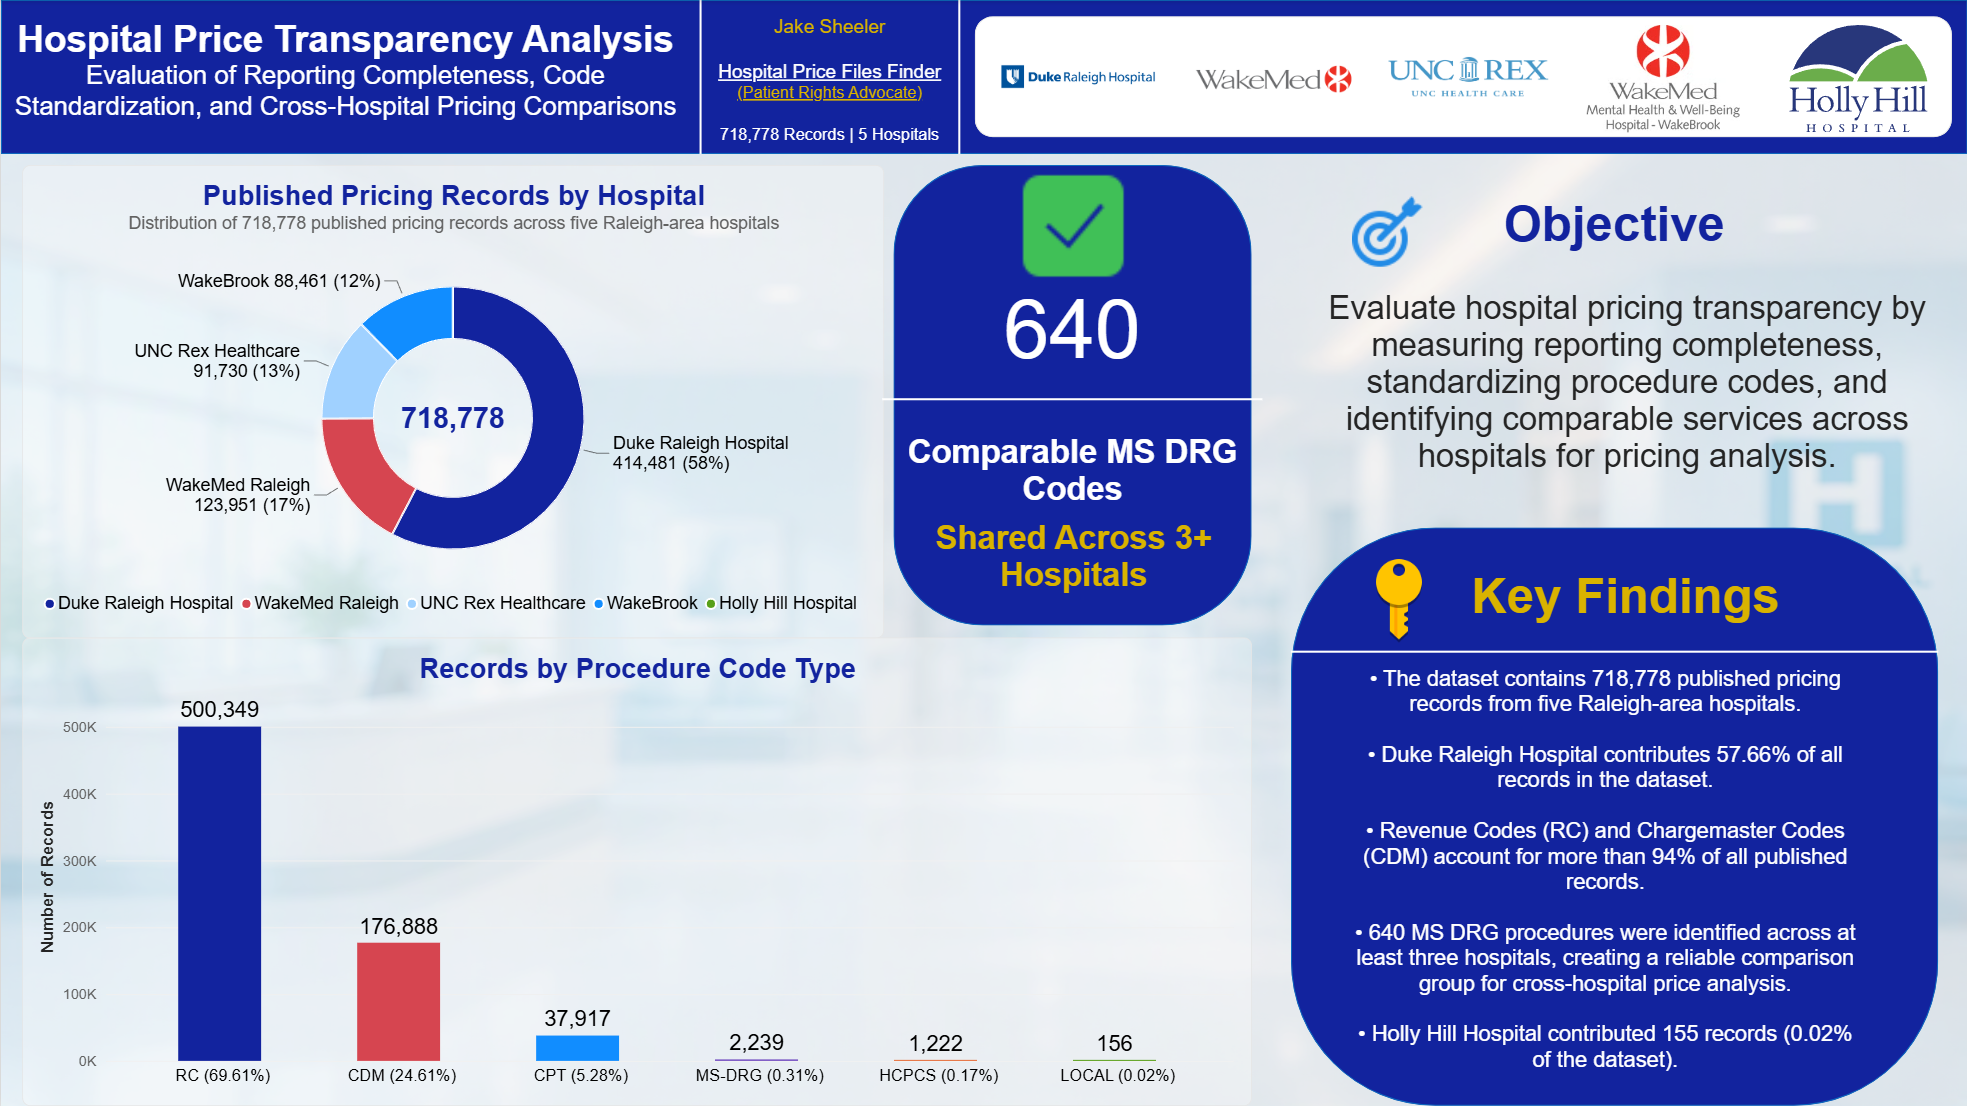

The dashboard page shown, as its layout file describes it:
{"tool":"powerbi","page":{"name":"Executive Overview","canvas":[1920,1080],"ordinal":0},"visuals":[{"type":"image","box":[0,149.9,1920.3,930.5],"z":0},{"type":"shape","box":[871.2,160.8,349.7,449.6],"z":1000},{"type":"shape","title":"Blue Banner","box":[0,0,1920.3,150.3],"z":2000},{"type":"donutChart","title":"Published Pricing Records by Hospital","fields":{"Category":["hospital_prices.Hospital Display Name"],"Y":["CountNonNull(hospital_prices.hospital_name)"]},"box":[20.3,160.8,841.5,462.1],"z":3000},{"type":"shape","box":[950.3,15.8,954.2,118.1],"z":4000},{"type":"textbox","title":"Hospital Price Transparency Analysis","box":[3.9,18.4,665.5,141.8],"z":5000},{"type":"shape","box":[669,0,28.4,150.3],"z":6000},{"type":"textbox","box":[683.8,15.6,251.4,184.2],"z":7000},{"type":"shape","box":[921.4,0,28.4,150.3],"z":8000},{"type":"image","box":[973.9,22.3,156,105],"z":9000},{"type":"image","box":[1164.2,24.9,156,105],"z":10000},{"type":"image","box":[1354.6,24.9,156,105],"z":11000},{"type":"image","box":[1544.9,24.9,156,105],"z":12000},{"type":"image","box":[1735.2,24.9,156,105],"z":13000},{"type":"columnChart","title":"Records by Procedure Code Type","fields":{"Category":["hospital_prices.Procedure Display"],"Y":["CountNonNull(hospital_prices.procedure_code_type)"]},"box":[20.3,622.9,1200.6,457.4],"z":14000},{"type":"cardVisual","fields":{"Data":["hospital_prices.Shared DRG Codes"]},"box":[871.2,270.1,349.7,104.6],"z":15000},{"type":"textbox","box":[871.2,423.1,349.7,84.3],"z":16000},{"type":"textbox","box":[872.7,507.4,349.7,103],"z":17000},{"type":"image","box":[988.3,107.7,117.1,226.4],"z":18000},{"type":"shape","box":[860.2,315.4,371.6,149.9],"z":19000},{"type":"textbox","box":[100,100,300,300],"z":20000},{"type":"shape","box":[1259.5,515.2,632,564.6],"z":21000},{"type":"shape","box":[1259.5,561.6,632,149.8],"z":22000},{"type":"textbox","title":"Key Findings Title","box":[1380.8,554.1,411.9,55.4],"z":23000},{"type":"image","title":"Key Findings Icon","box":[1319.4,540.7,91.4,89.9],"z":24000},{"type":"textbox","box":[1319.4,650,494.2,417.8],"z":25000},{"type":"shape","box":[1259.5,160.2,632,347.5],"z":26000},{"type":"textbox","box":[1271.5,283.1,632,215.7],"z":27000},{"type":"image","box":[1304.5,191.7,97.3,68.9],"z":28000},{"type":"textbox","box":[1439.3,191.7,272.6,77.9],"z":29000}]}

Visuals, with their boxes in screenshot pixels (x1, y1, x2, y2), scaled from the page's 1920x1080 canvas onto the 1967x1106 screenshot:
image: (x1=0, y1=154, x2=1966, y2=1105)
shape: (x1=893, y1=165, x2=1251, y2=625)
"Blue Banner" shape: (x1=0, y1=0, x2=1966, y2=154)
"Published Pricing Records by Hospital" donutChart: (x1=21, y1=165, x2=883, y2=638)
shape: (x1=974, y1=16, x2=1951, y2=137)
"Hospital Price Transparency Analysis" textbox: (x1=4, y1=19, x2=686, y2=164)
shape: (x1=685, y1=0, x2=714, y2=154)
textbox: (x1=701, y1=16, x2=958, y2=205)
shape: (x1=944, y1=0, x2=973, y2=154)
image: (x1=998, y1=23, x2=1158, y2=130)
image: (x1=1193, y1=25, x2=1353, y2=133)
image: (x1=1388, y1=25, x2=1548, y2=133)
image: (x1=1583, y1=25, x2=1743, y2=133)
image: (x1=1778, y1=25, x2=1937, y2=133)
"Records by Procedure Code Type" columnChart: (x1=21, y1=638, x2=1251, y2=1105)
cardVisual - hospital_prices.Shared DRG Codes: (x1=893, y1=277, x2=1251, y2=384)
textbox: (x1=893, y1=433, x2=1251, y2=520)
textbox: (x1=894, y1=520, x2=1252, y2=625)
image: (x1=1012, y1=110, x2=1132, y2=342)
shape: (x1=881, y1=323, x2=1262, y2=477)
textbox: (x1=102, y1=102, x2=410, y2=410)
shape: (x1=1290, y1=528, x2=1938, y2=1105)
shape: (x1=1290, y1=575, x2=1938, y2=729)
"Key Findings Title" textbox: (x1=1415, y1=567, x2=1837, y2=624)
"Key Findings Icon" image: (x1=1352, y1=554, x2=1445, y2=646)
textbox: (x1=1352, y1=666, x2=1858, y2=1094)
shape: (x1=1290, y1=164, x2=1938, y2=520)
textbox: (x1=1303, y1=290, x2=1950, y2=511)
image: (x1=1336, y1=196, x2=1436, y2=267)
textbox: (x1=1475, y1=196, x2=1754, y2=276)
